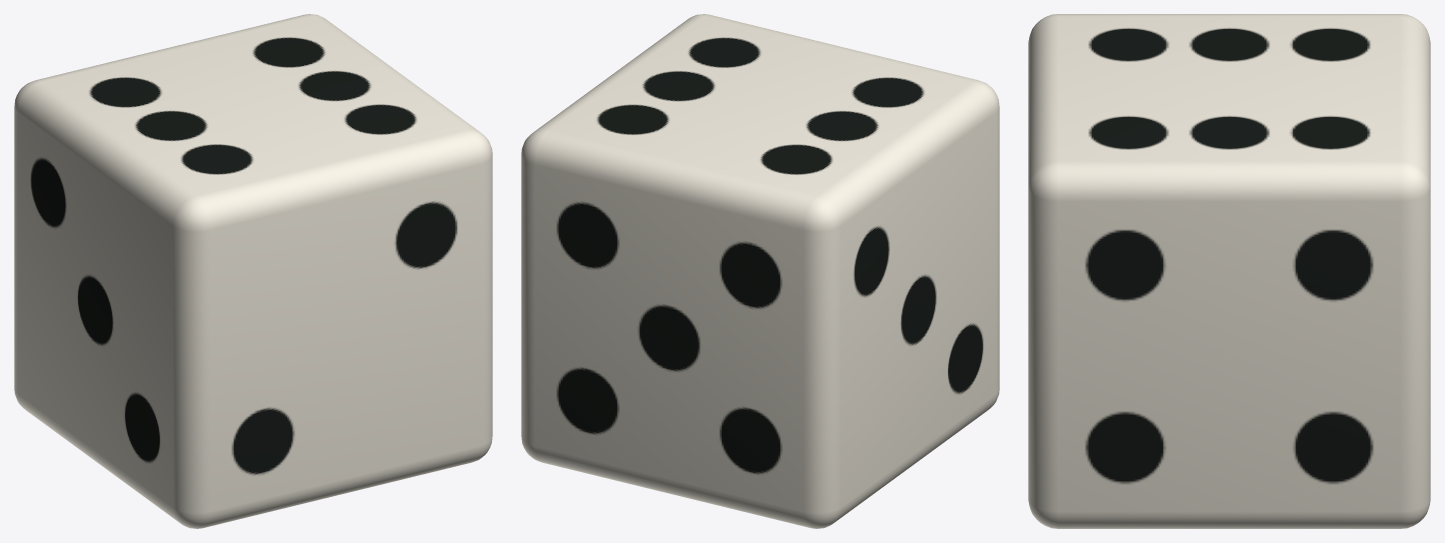
Rendered from dice.glb.
3 renders of one model, left to right at view 1: azimuth 30°, elevation 25°; view 2: azimuth 150°, elevation 25°; view 3: azimuth 270°, elevation 25°, orthographic. The views are drawn at different scales.
Parts seen in each view (by area): view 1: Die; view 2: Die; view 3: Die.
Part boxes in pixels (box(x1,y1,x2,y2)): Die: box(14, 14, 492, 528); Die: box(521, 14, 999, 528); Die: box(1028, 14, 1430, 528).
Size of the model in its own units: 1 by 1 by 1.
Materials: 1 (1 with a texture image).
